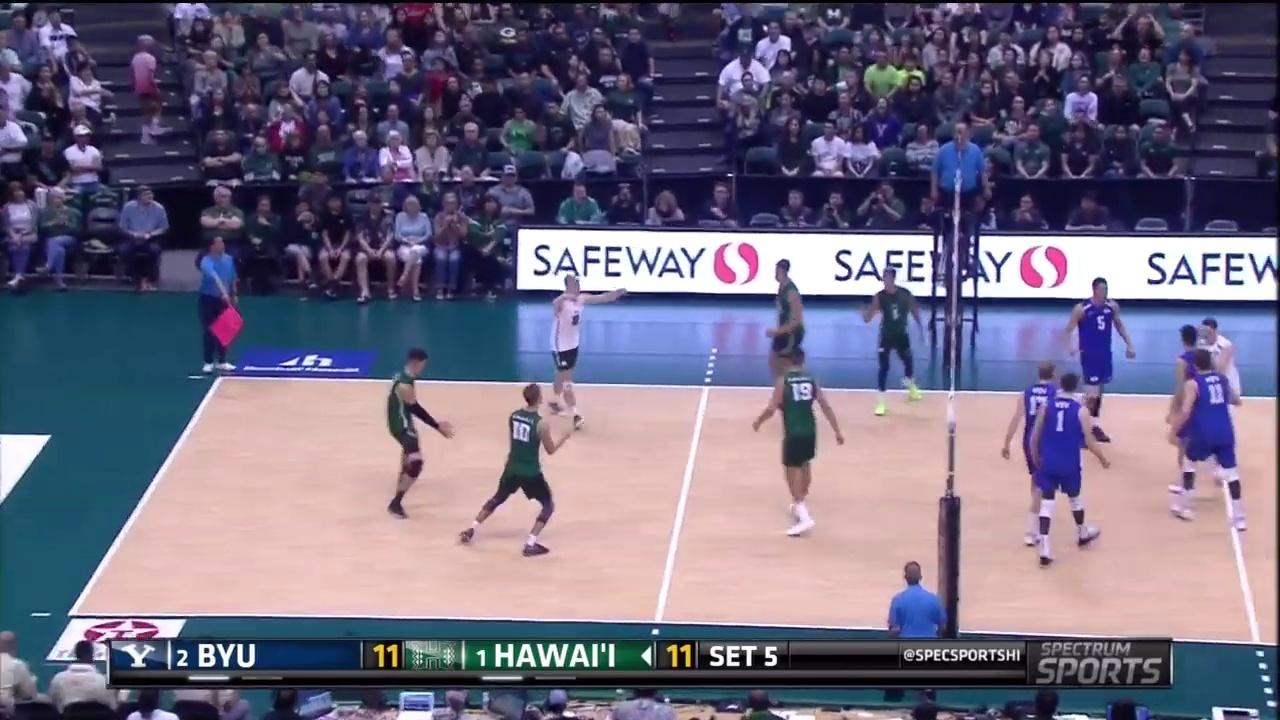player: (458, 393, 578, 553), (754, 346, 846, 544), (1028, 375, 1121, 565), (1000, 355, 1082, 539), (542, 267, 623, 426), (1065, 280, 1136, 446), (1181, 348, 1245, 529), (385, 354, 454, 518), (1164, 321, 1217, 489), (1189, 315, 1249, 460), (865, 272, 922, 416), (761, 257, 819, 395)
refree: (873, 557, 947, 699), (929, 125, 994, 269), (194, 233, 249, 373)
